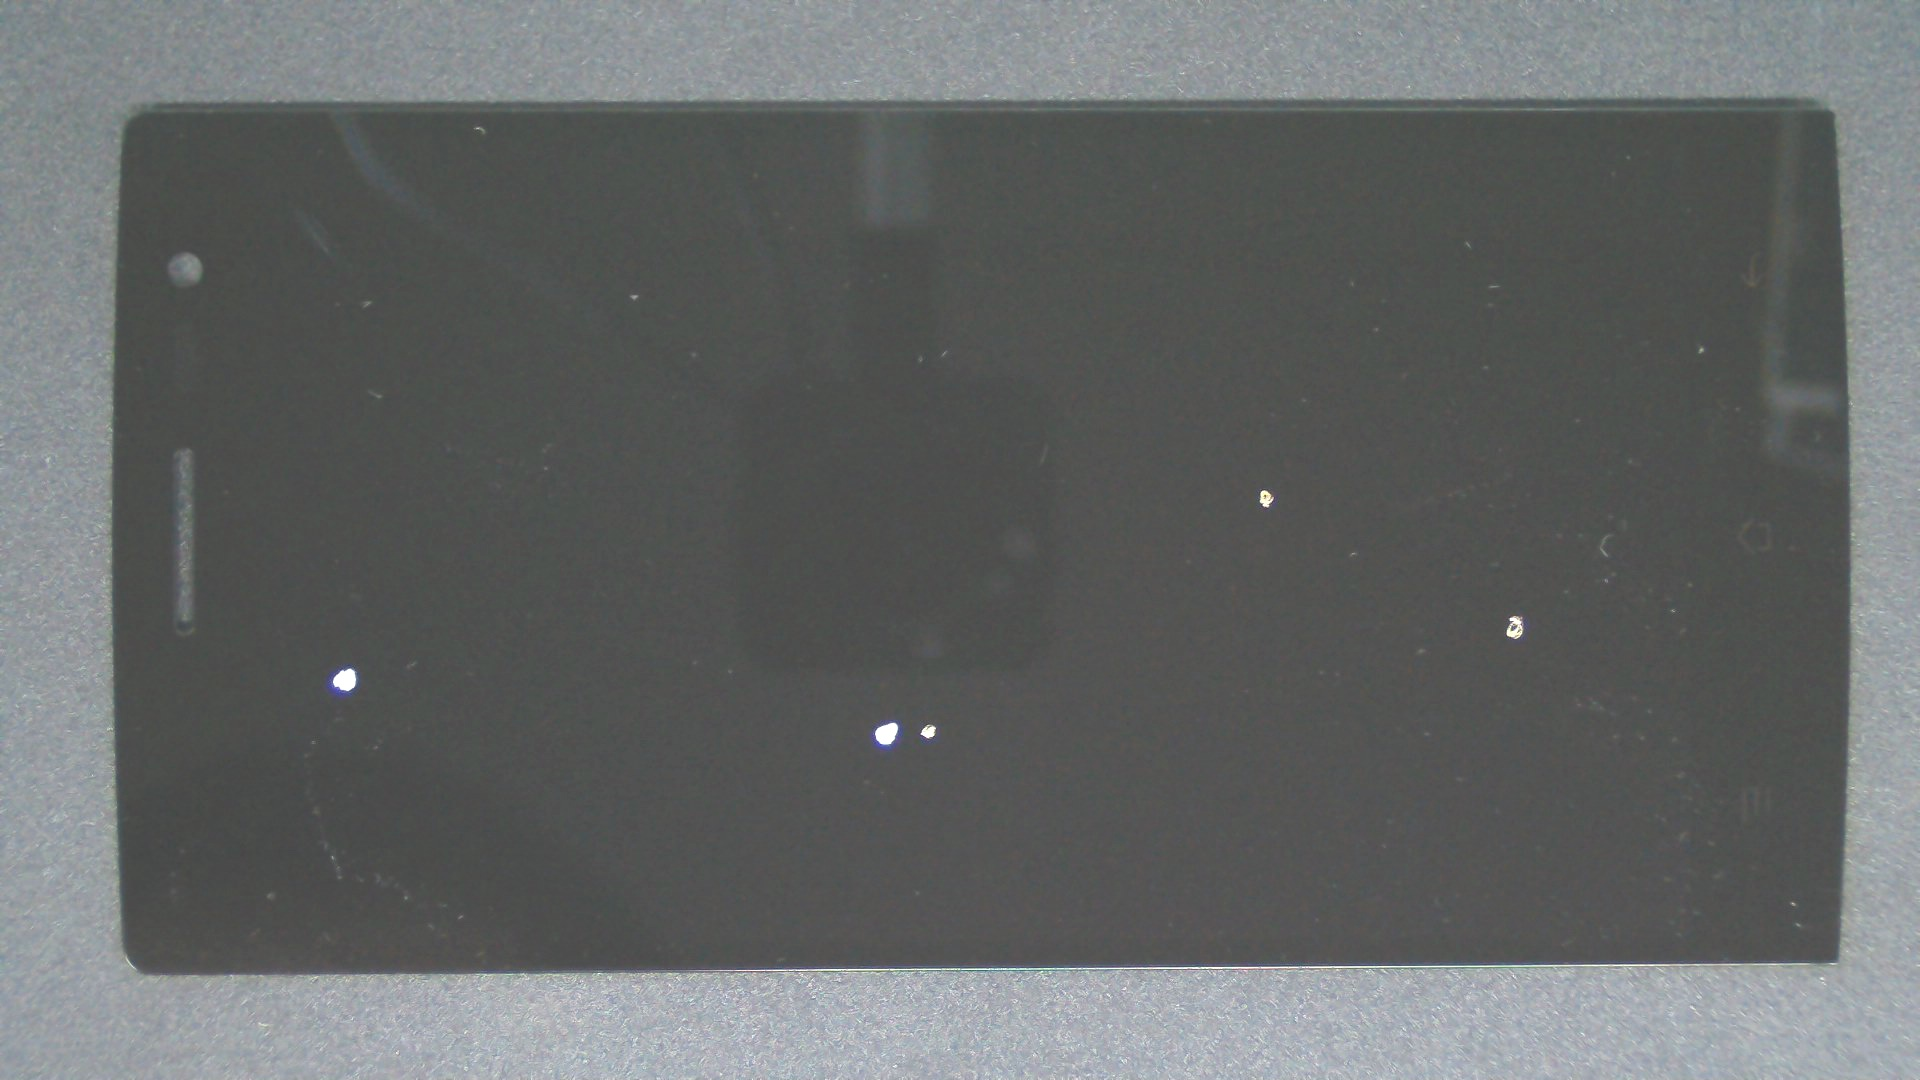oil: (760, 306, 1920, 922), (464, 361, 1391, 1080), (446, 360, 1335, 1080), (633, 243, 1894, 733), (175, 332, 525, 1000)
